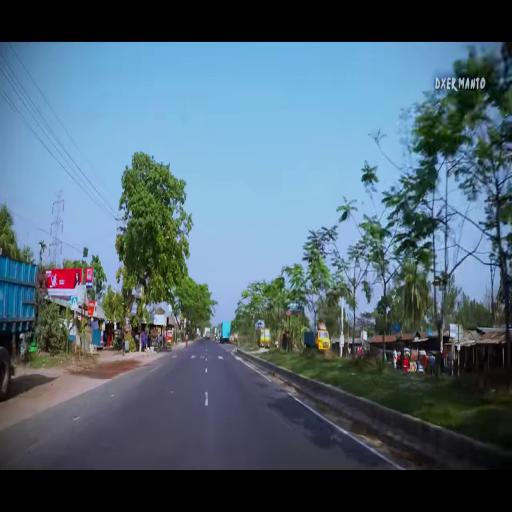rickshaw: (403, 349, 411, 374), (411, 349, 418, 376)
truck: (303, 322, 332, 356), (219, 320, 232, 345), (258, 326, 272, 349)
